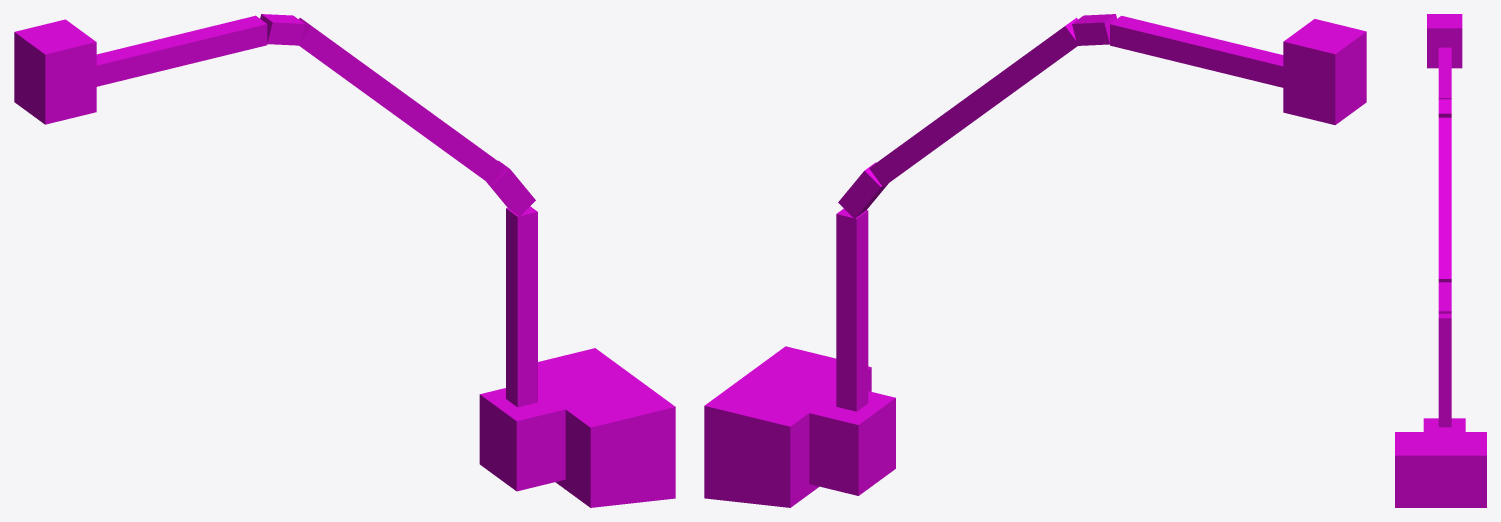
File: SM_OverheadLightSinglePart06Collider.fbx
The picture shows the model from 3 angles, left to right: view 1: azimuth 30°, elevation 25°; view 2: azimuth 150°, elevation 25°; view 3: azimuth 270°, elevation 25°; orthographic projection. The views are drawn at different scales.
Visible parts, largest first — view 1: OverheadLightSinglePart06Collision; view 2: OverheadLightSinglePart06Collision; view 3: OverheadLightSinglePart06Collision.
Boxes of the visible parts, <box> form: OverheadLightSinglePart06Collision: <box>14,14,675,507</box>; OverheadLightSinglePart06Collision: <box>704,14,1366,507</box>; OverheadLightSinglePart06Collision: <box>1395,14,1486,507</box>.
Size of the model in its own units: 35.49 by 32.11 by 8.2.
